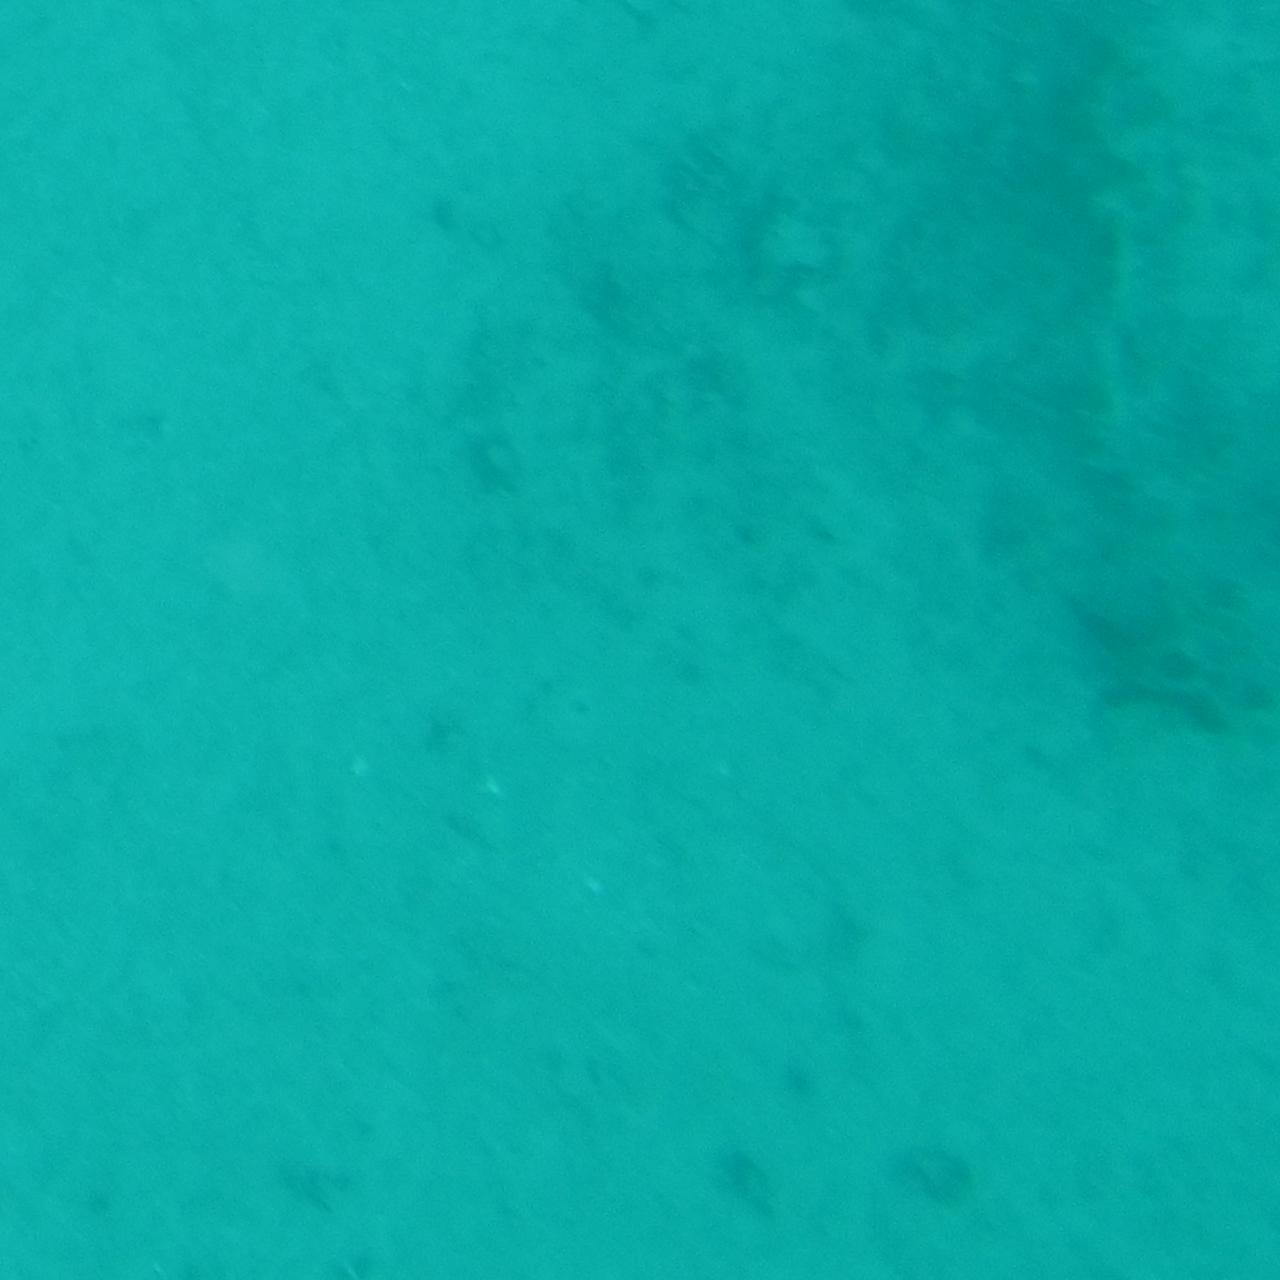Asteroidea: (1065, 566, 1276, 760)
